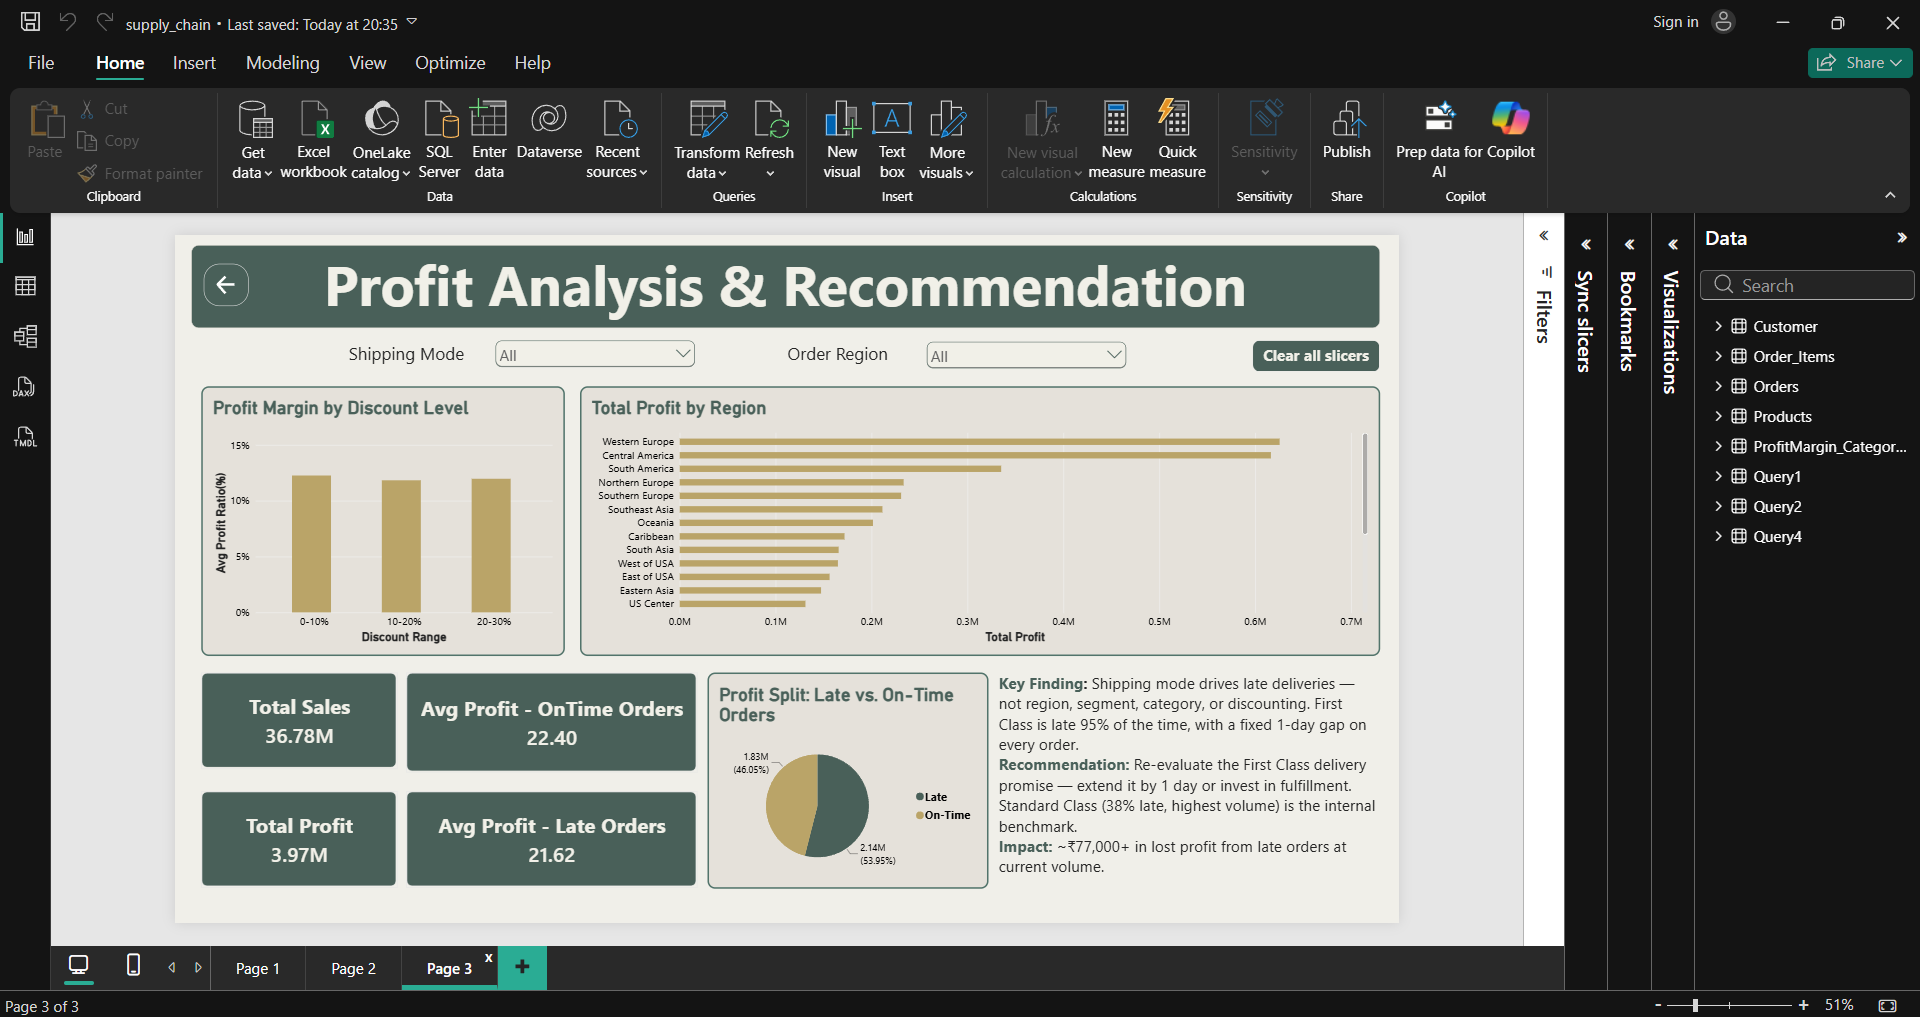

The dashboard page shown, as its layout file describes it:
{"tool":"powerbi","page":{"name":"Page 3","canvas":[1920,1080],"ordinal":2},"visuals":[{"type":"slicer","fields":{"Values":["Orders.Shipping_Mode"]},"box":[498,160.8,322.4,65],"z":0},{"type":"slicer","fields":{"Values":["Orders.Order_Region"]},"box":[1174.5,162.7,322.4,65],"z":1000},{"type":"textbox","box":[272.5,166.7,196.1,58.8],"z":2000},{"type":"cardVisual","fields":{"Data":["Products.Total Sales"]},"box":[41.2,686.3,307.8,151],"z":3000},{"type":"cardVisual","fields":{"Data":["Orders.Total Profit"]},"box":[41.2,872.5,307.8,151],"z":4000},{"type":"clusteredBarChart","title":"Total Profit by Region","fields":{"Category":["Orders.Order_Region"],"Y":["Orders.Total Profit"]},"box":[635,237.4,1255.2,423.3],"z":5000},{"type":"clusteredColumnChart","title":"Profit Margin by Discount Level","fields":{"Category":["Order_Items.Discount Bucket"],"Y":["Order_Items.Avg Profit Ratio"]},"box":[41.2,237.3,570.6,423.5],"z":6000},{"type":"cardVisual","fields":{"Data":["Order_Items.Avg Profit Late"]},"box":[362.7,872.5,456.9,151],"z":7000},{"type":"cardVisual","fields":{"Data":["Order_Items.Avg Profit OnTime"]},"box":[362.7,686.3,456.9,156.9],"z":8000},{"type":"textbox","box":[960.8,166.7,178.4,58.8],"z":9000},{"type":"textbox","box":[1292.2,686.3,598,339.2],"z":10000},{"type":"pieChart","title":"Profit Split: Late vs. On-Time Orders","fields":{"Category":["Orders.Delivery Status"],"Y":["Orders.Total Profit"]},"box":[835.3,686.3,441.2,339.2],"z":11000},{"type":"textbox","box":[25.8,14.7,1864.4,130.7],"z":12000},{"type":"actionButton","box":[45.1,45.1,70,66.7],"z":13002},{"type":"actionButton","box":[1690.2,164.7,200,50],"z":13003}]}

Visuals, with their boxes on the page's 1920x1080 design canvas (x1, y1, x2, y2). These are canvas units, not pixel positions in the 1920x1017 screenshot, which may show the page scaled, cropped or inside an application window:
slicer - Orders.Shipping_Mode: locate(498, 161, 820, 226)
slicer - Orders.Order_Region: locate(1174, 163, 1497, 228)
textbox: locate(272, 167, 469, 226)
cardVisual - Products.Total Sales: locate(41, 686, 349, 837)
cardVisual - Orders.Total Profit: locate(41, 872, 349, 1024)
"Total Profit by Region" clusteredBarChart: locate(635, 237, 1890, 661)
"Profit Margin by Discount Level" clusteredColumnChart: locate(41, 237, 612, 661)
cardVisual - Order_Items.Avg Profit Late: locate(363, 872, 820, 1024)
cardVisual - Order_Items.Avg Profit OnTime: locate(363, 686, 820, 843)
textbox: locate(961, 167, 1139, 226)
textbox: locate(1292, 686, 1890, 1026)
"Profit Split: Late vs. On-Time Orders" pieChart: locate(835, 686, 1276, 1026)
textbox: locate(26, 15, 1890, 145)
actionButton: locate(45, 45, 115, 112)
actionButton: locate(1690, 165, 1890, 215)
